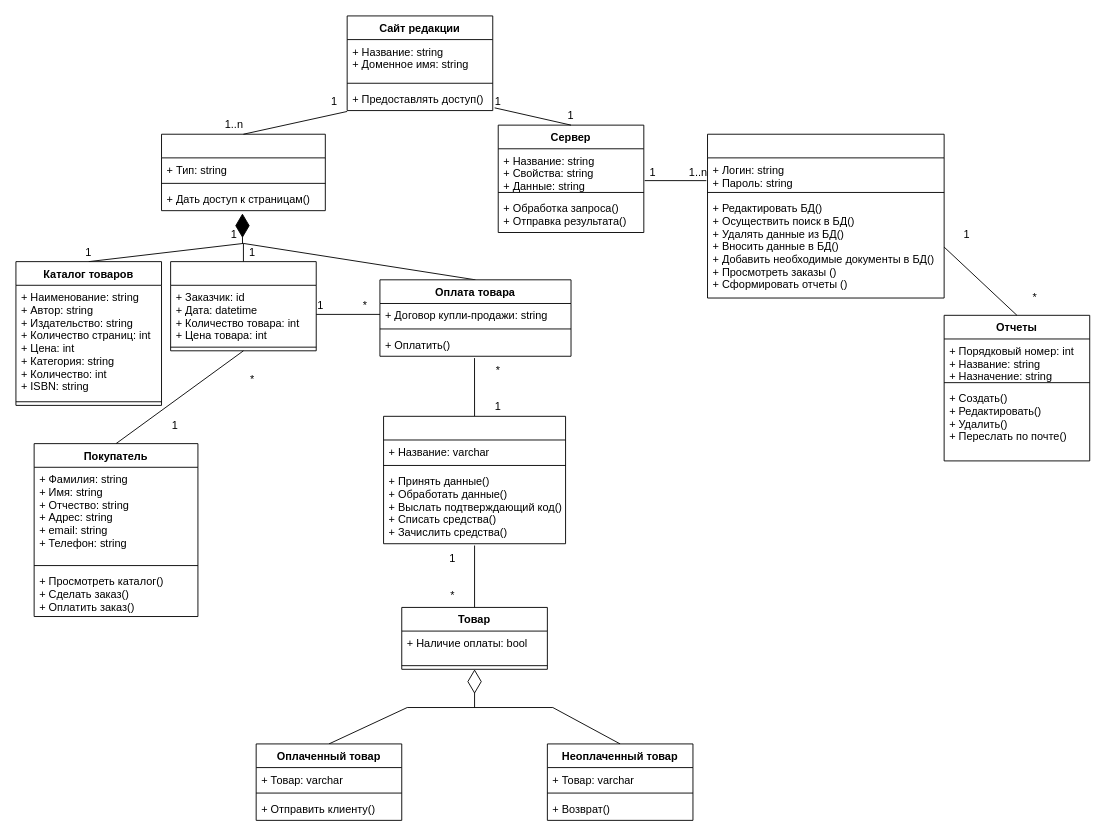
The diagram is 1106 pixels wide and 839 high, and some of its shapes have lost their labels. Here are the shapes that lost their labels. From the top down, the box of each, then its label:
(161, 133, 325, 211): Интерфейс
(707, 133, 944, 298): Администратор
(170, 261, 316, 351): Оформление заказа
(383, 415, 566, 544): Агрегатор платежей
